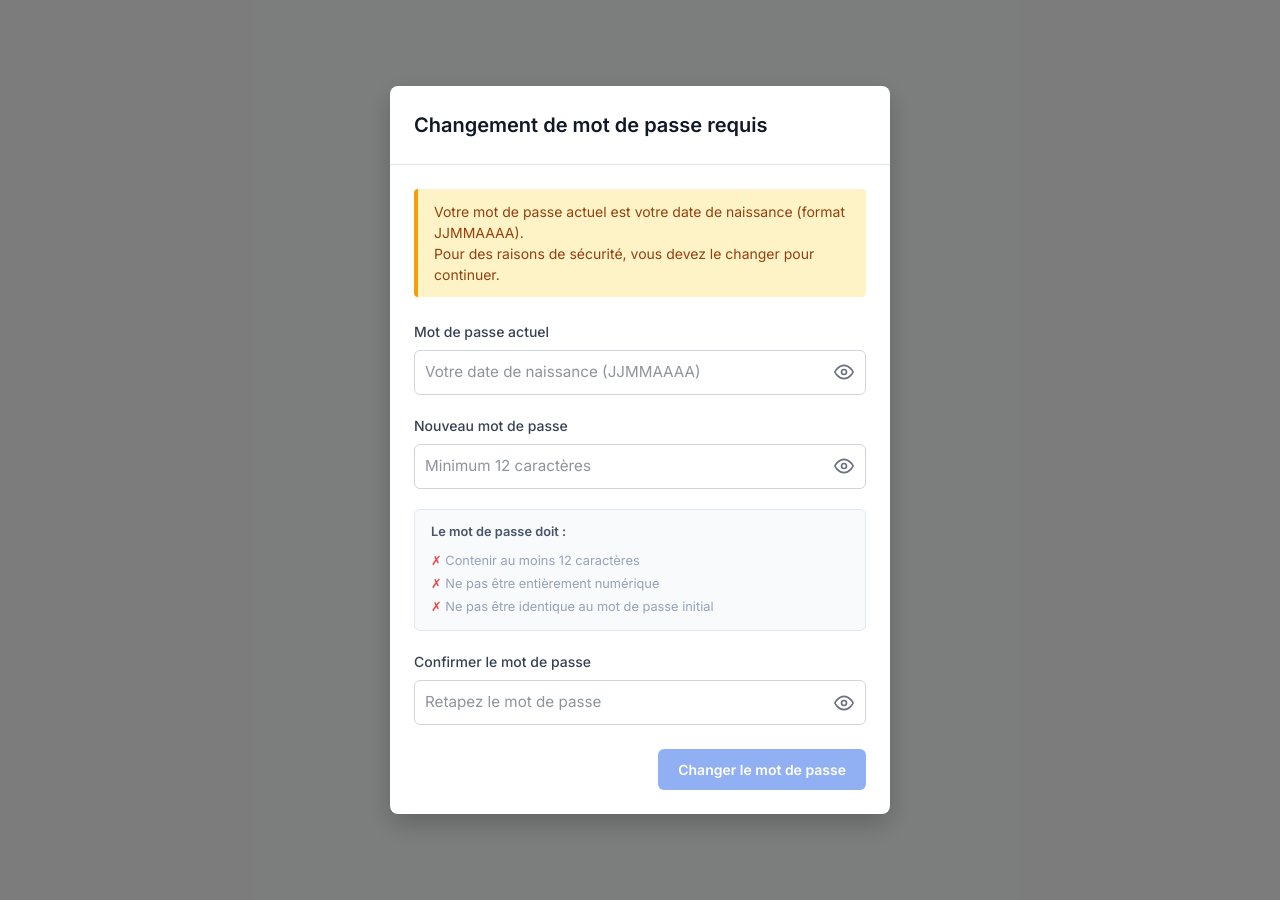
Test: ChangePasswordModal › renders backend detail errors instead of the generic fallback message
Type "01012007" into the password field labelled "Mot de passe actuel" at (640, 372), box [414, 350, 866, 395]
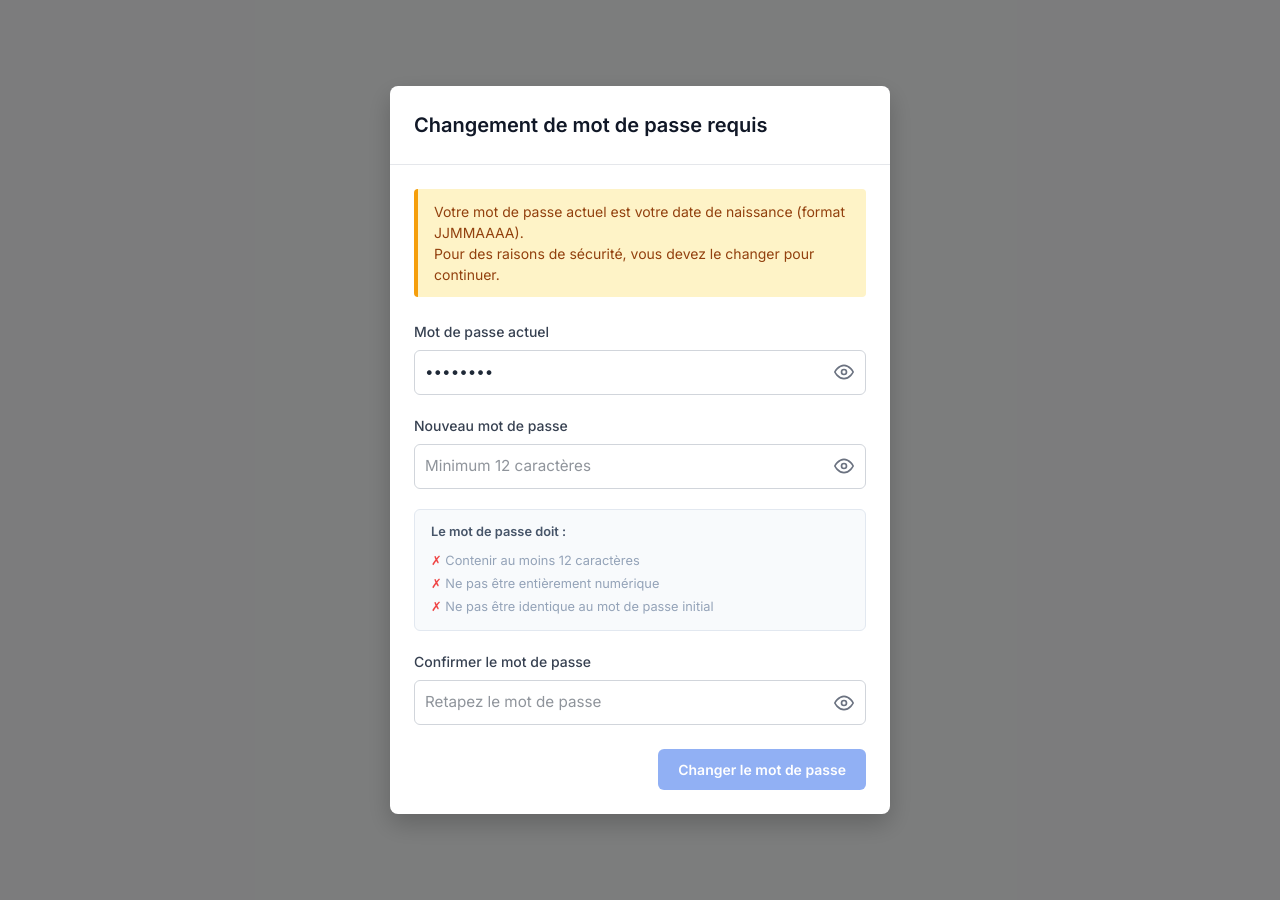
Type "NouveauMotDePasse2026!" into the password field labelled "Nouveau mot de passe" at (640, 466), box [414, 444, 866, 488]
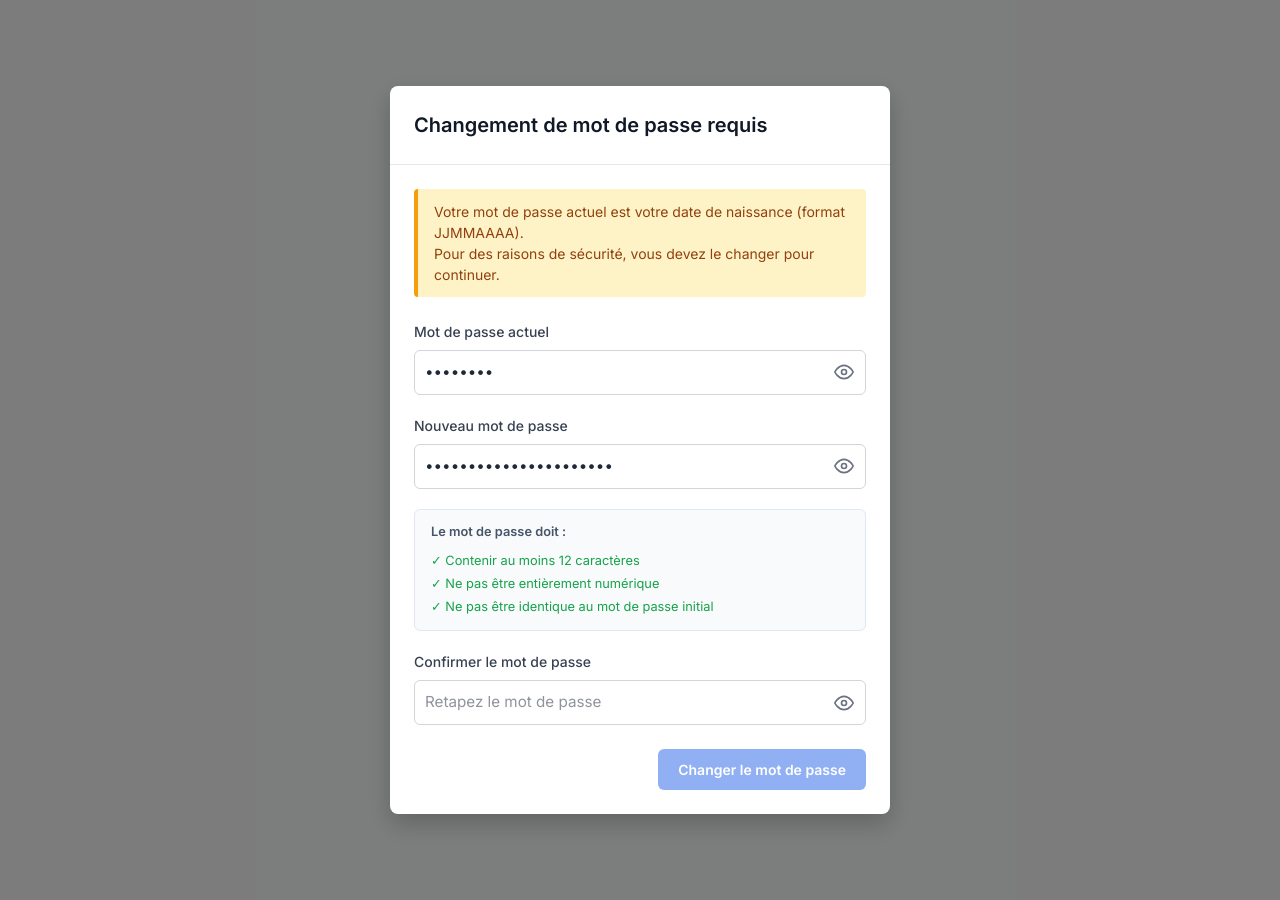
Type "NouveauMotDePasse2026!" into the password field labelled "Confirmer le mot de passe" at (640, 703), box [414, 680, 866, 725]
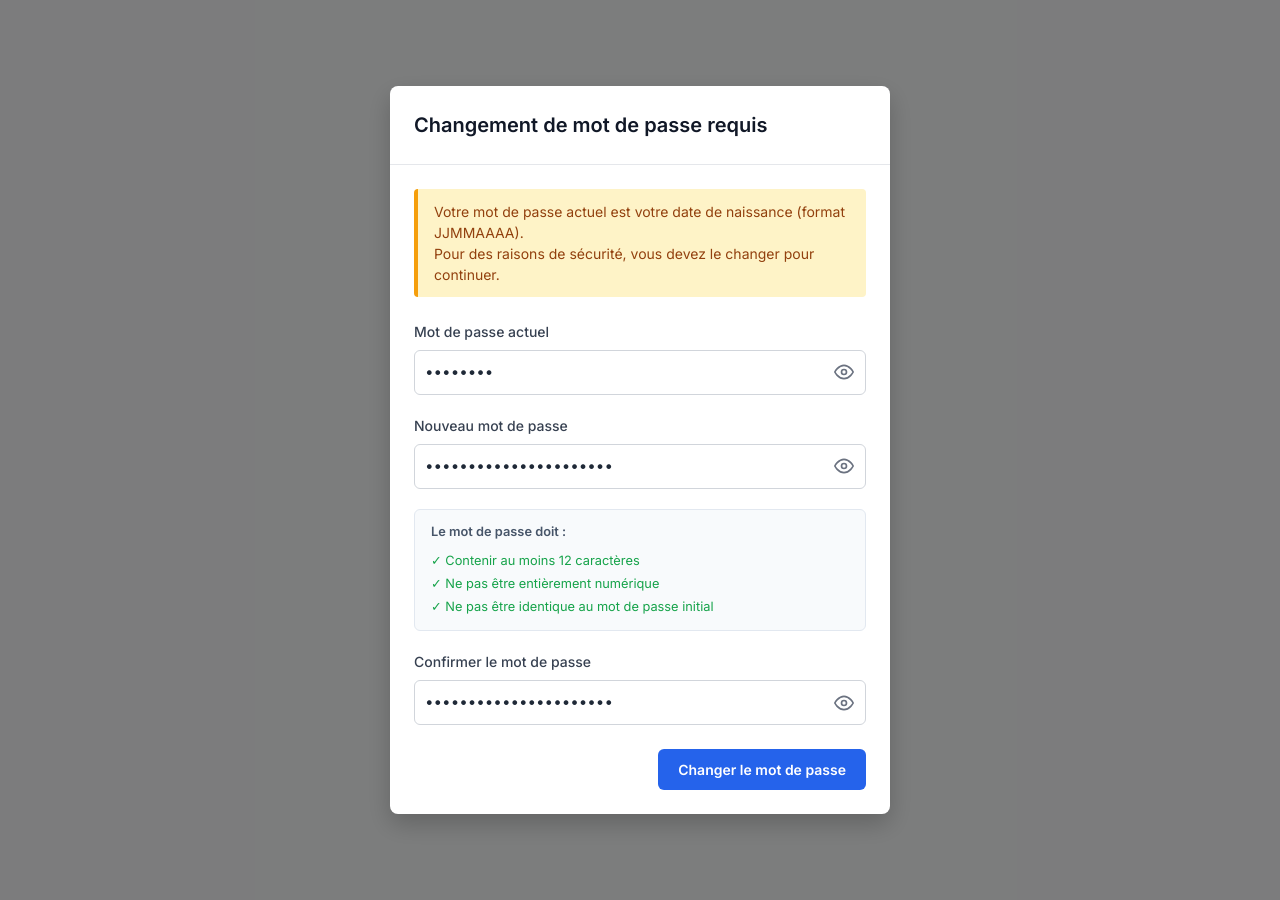
Submit the form, box [414, 321, 866, 790]
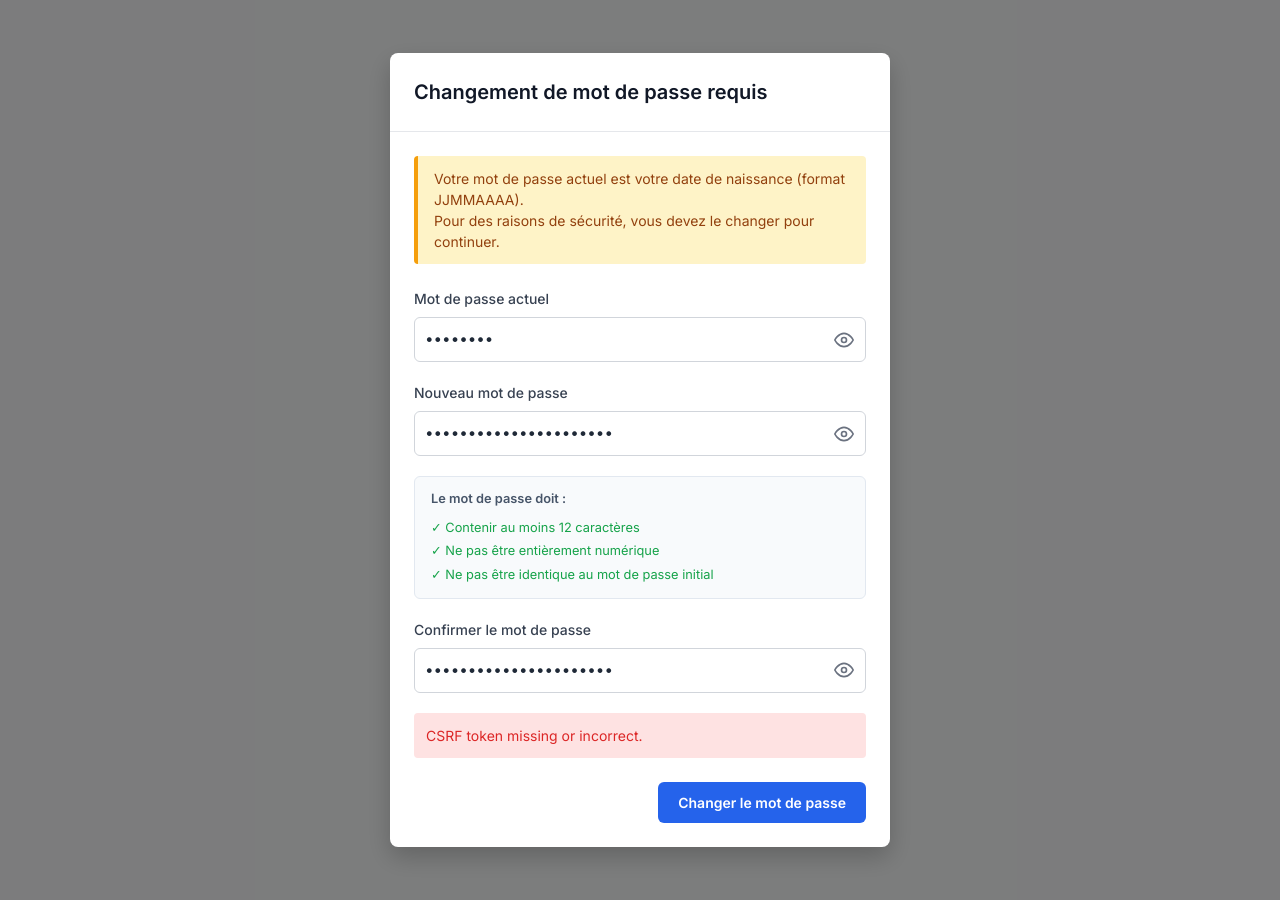
Check: the text "CSRF token missing or incorrect." is shown, box [414, 712, 866, 758]
